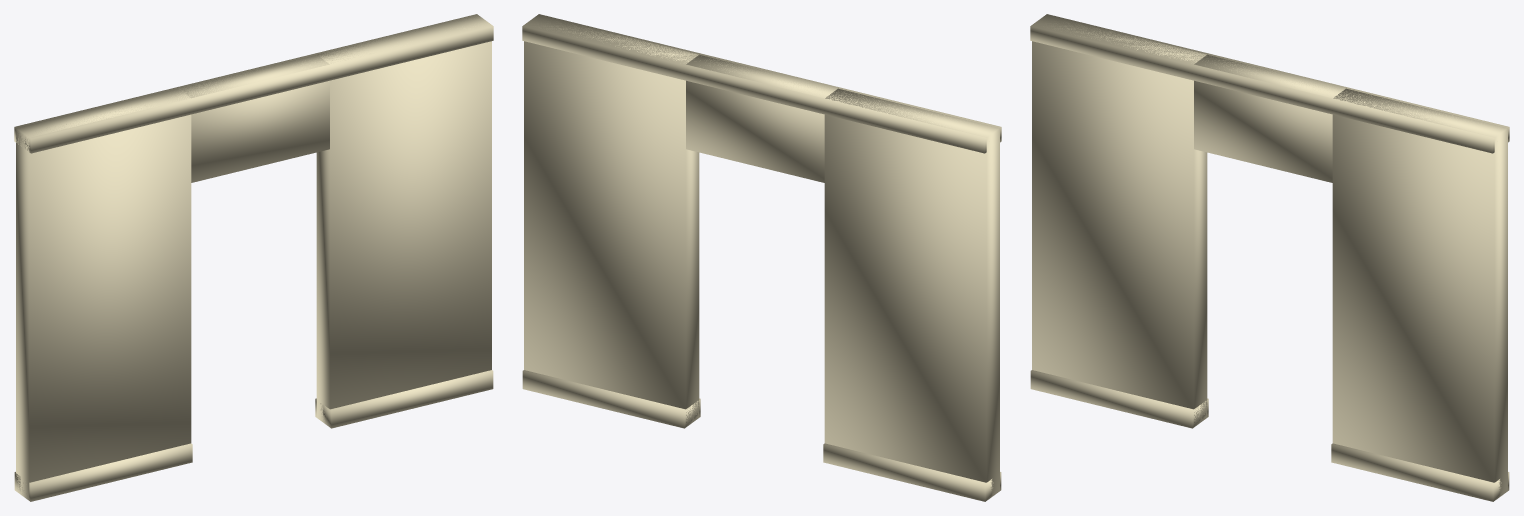
File: SM_Wall_Modular_Doorway_400x300.fbx
3 renders of one model, left to right at view 1: azimuth 30°, elevation 25°; view 2: azimuth 150°, elevation 25°; view 3: azimuth 330°, elevation 25°, orthographic.
Parts seen in each view (by area): view 1: Cube; view 2: Cube; view 3: Cube.
Boxes of the visible parts, <box> form: Cube: <box>14,14,493,501</box>; Cube: <box>522,14,1001,501</box>; Cube: <box>1030,14,1509,501</box>.
Bounding box in the file's own units: 400 × 300 × 25.
